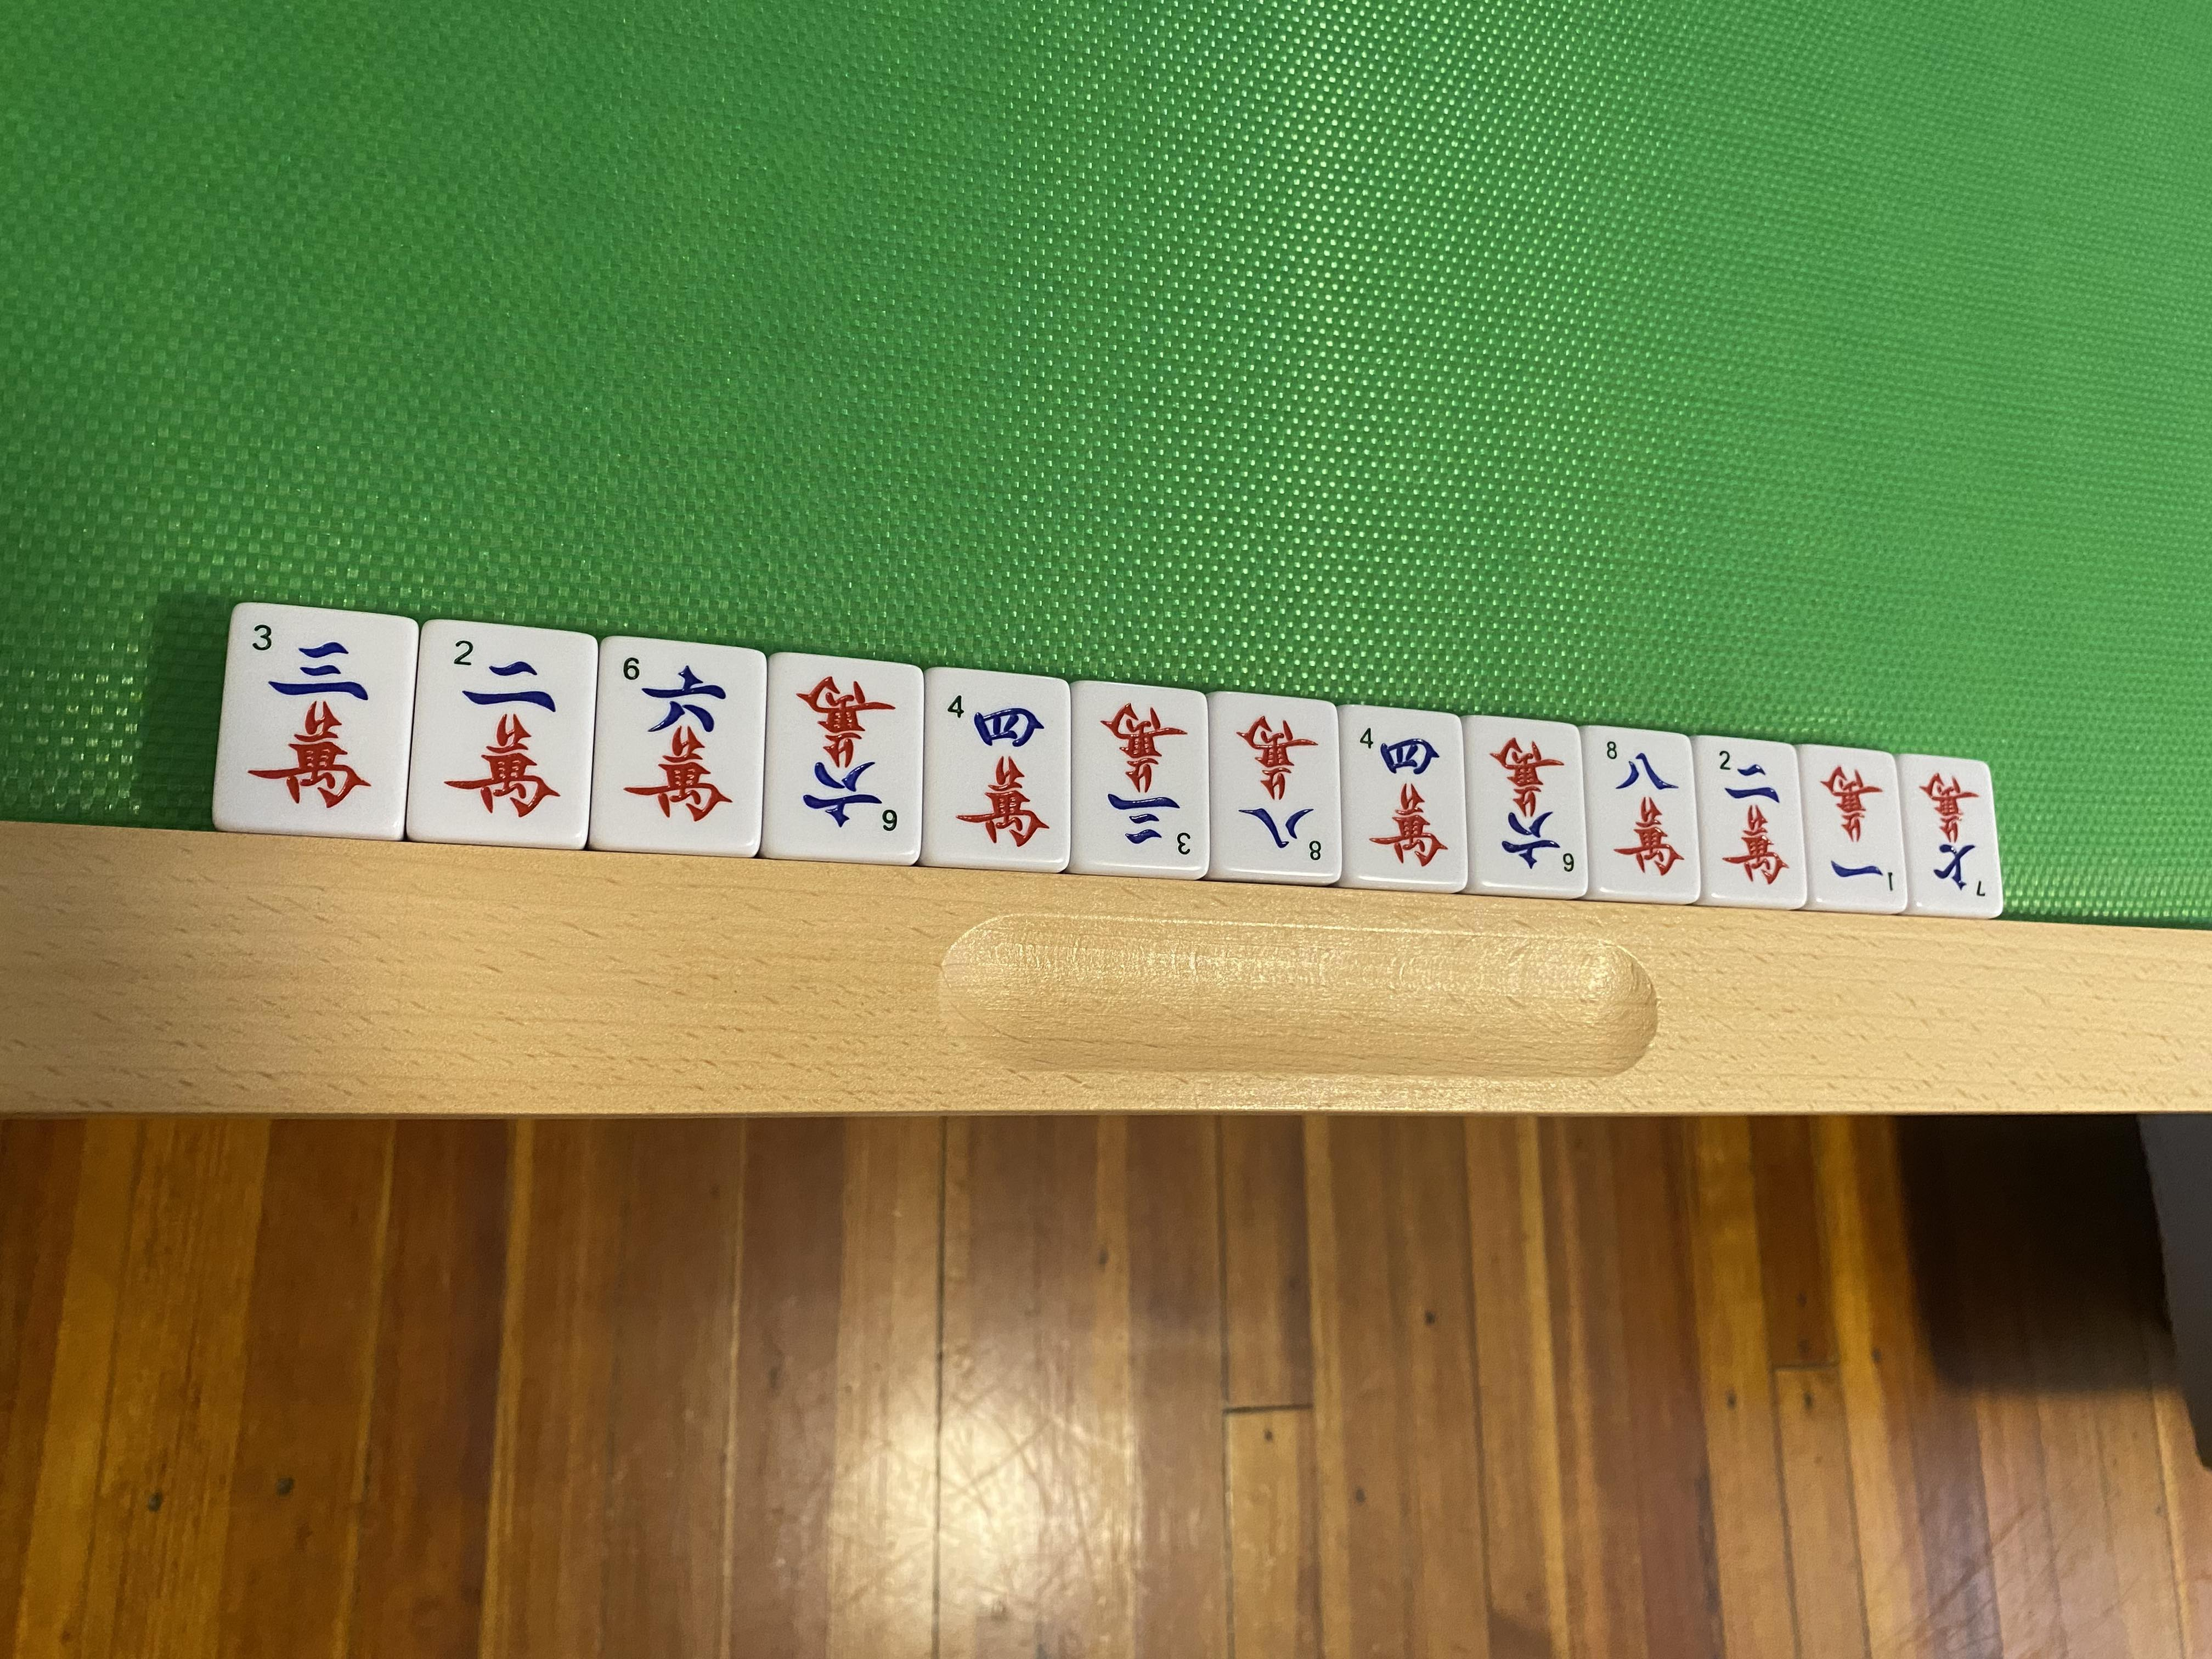character-eight: (1224, 706, 1331, 870), (1601, 735, 1689, 884)
character-four: (941, 685, 1069, 852), (1352, 716, 1453, 875)
character-one: (1813, 756, 1898, 903)
character-seven: (1914, 770, 1993, 903)
character-six: (615, 648, 751, 835), (786, 666, 913, 847), (1482, 728, 1576, 880)
character-three: (239, 619, 392, 828), (1090, 694, 1204, 864)
character-two: (432, 629, 571, 835), (1709, 748, 1796, 896)
